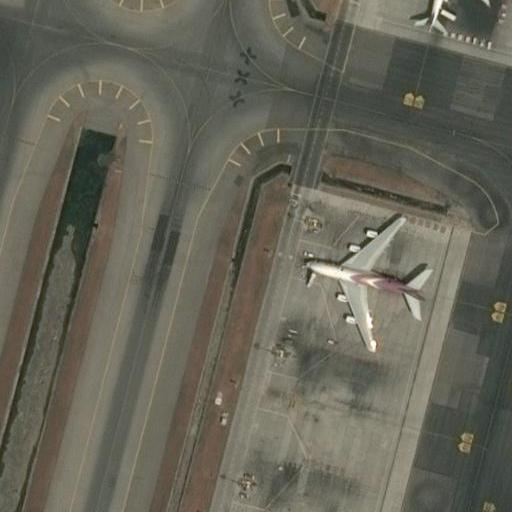Aircraft: (301, 203, 436, 350), (387, 0, 492, 37)
